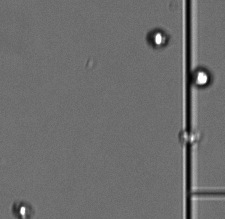Living Cell: (145, 27, 169, 49), (191, 65, 213, 88), (13, 201, 32, 217)
